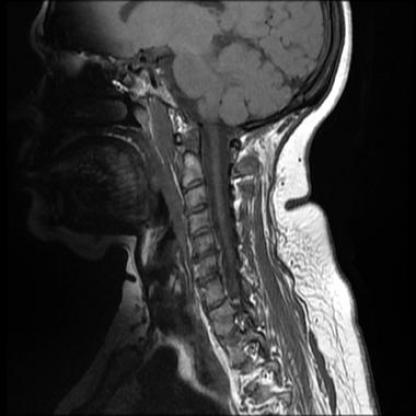Disc Protrusionrotation: (183, 201, 211, 216), (192, 248, 220, 263), (195, 272, 222, 286), (187, 227, 215, 240)
Osteophytesrotation: (192, 249, 220, 264), (195, 272, 222, 287), (183, 202, 211, 216), (187, 226, 215, 239)
